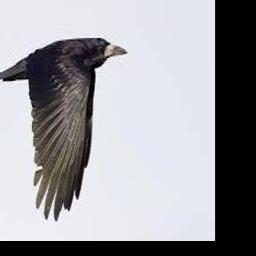Crow: (0, 37, 128, 218)
